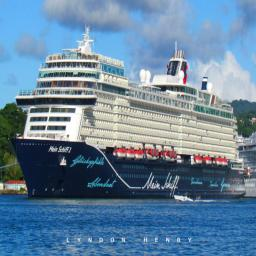cruises: (11, 26, 251, 205)
